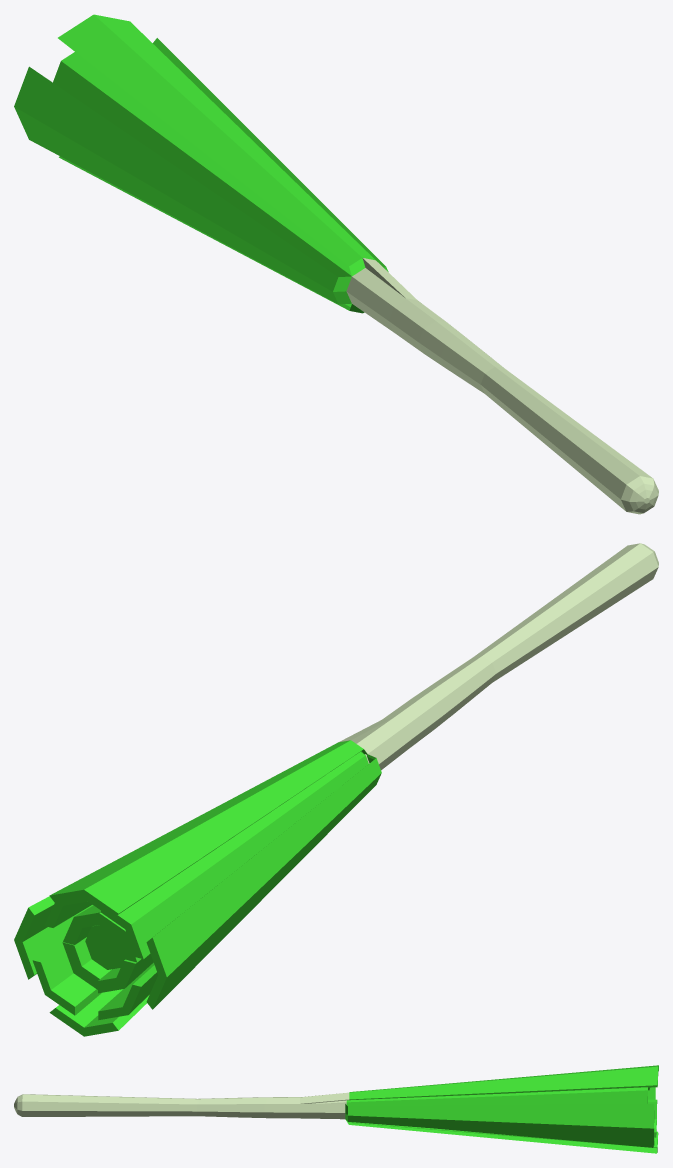
File: scallion.fbx
The picture shows the model from 3 angles, top to bottom: view 1: azimuth 30°, elevation 25°; view 2: azimuth 150°, elevation 25°; view 3: azimuth 270°, elevation 25°; orthographic projection. The views are drawn at different scales.
Parts seen in each view (by area): view 1: Cylinder; view 2: Cylinder; view 3: Cylinder.
Part boxes in pixels (x1,y1,x2,y2): Cylinder: (14,14,658,514); Cylinder: (14,543,658,1036); Cylinder: (14,1065,658,1153).
Bounding box in the file's own units: 137 × 125 × 850.
